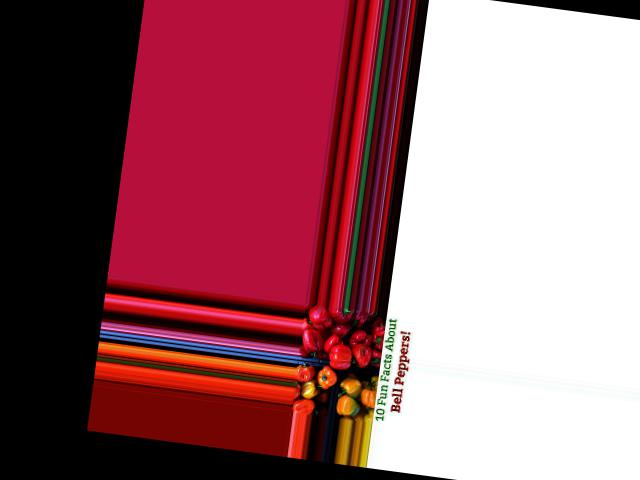bell_pepper: (365, 323, 388, 356)
